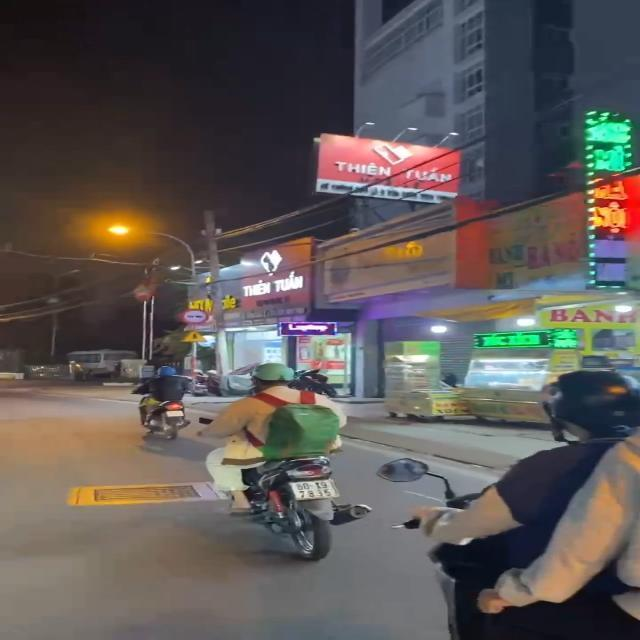125-cam-vuot: (180, 307, 210, 325)
207-giao-nhau-voi-duong-khong-uu-tien: (182, 330, 210, 342)
